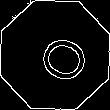O_NW: (23, 25, 87, 85)
